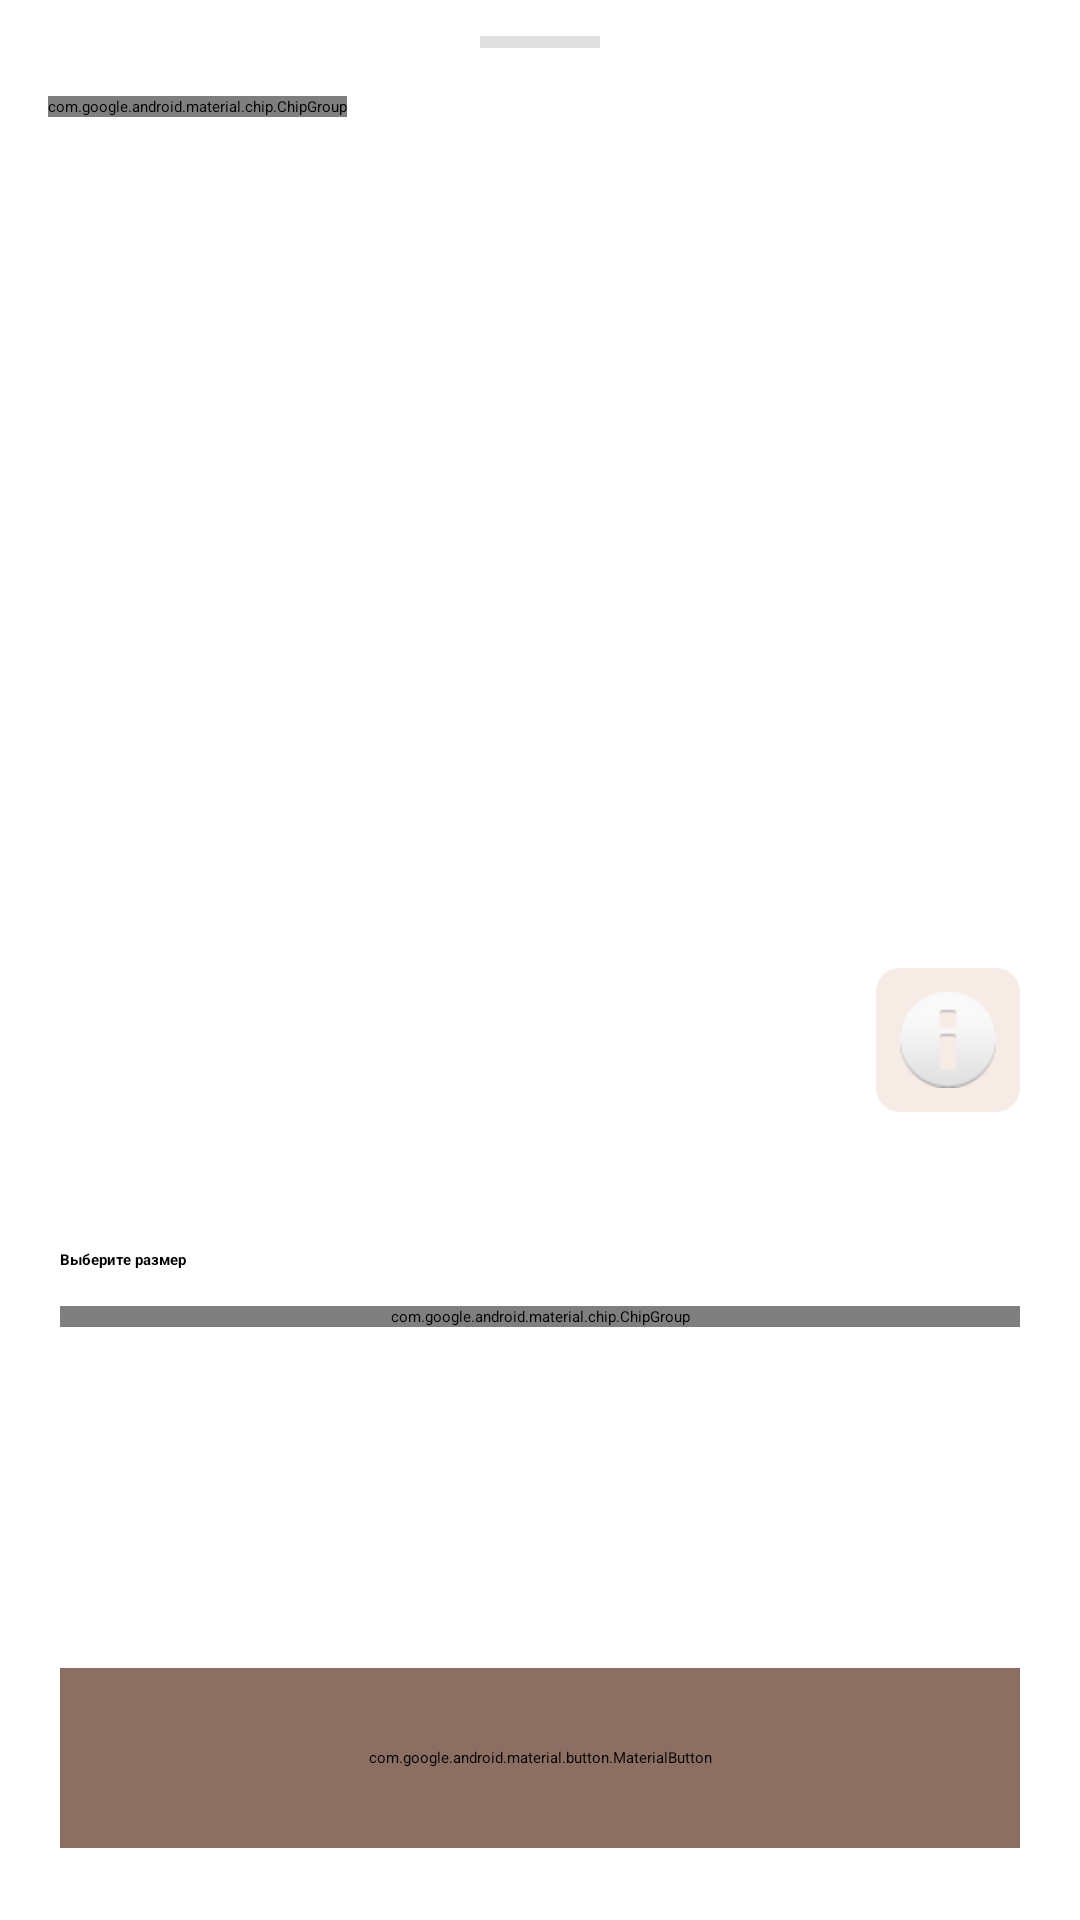

Named icons in this screenshot (1080x1920) and their centers, [x,y]:
Характеристики товара: [948,1040]
